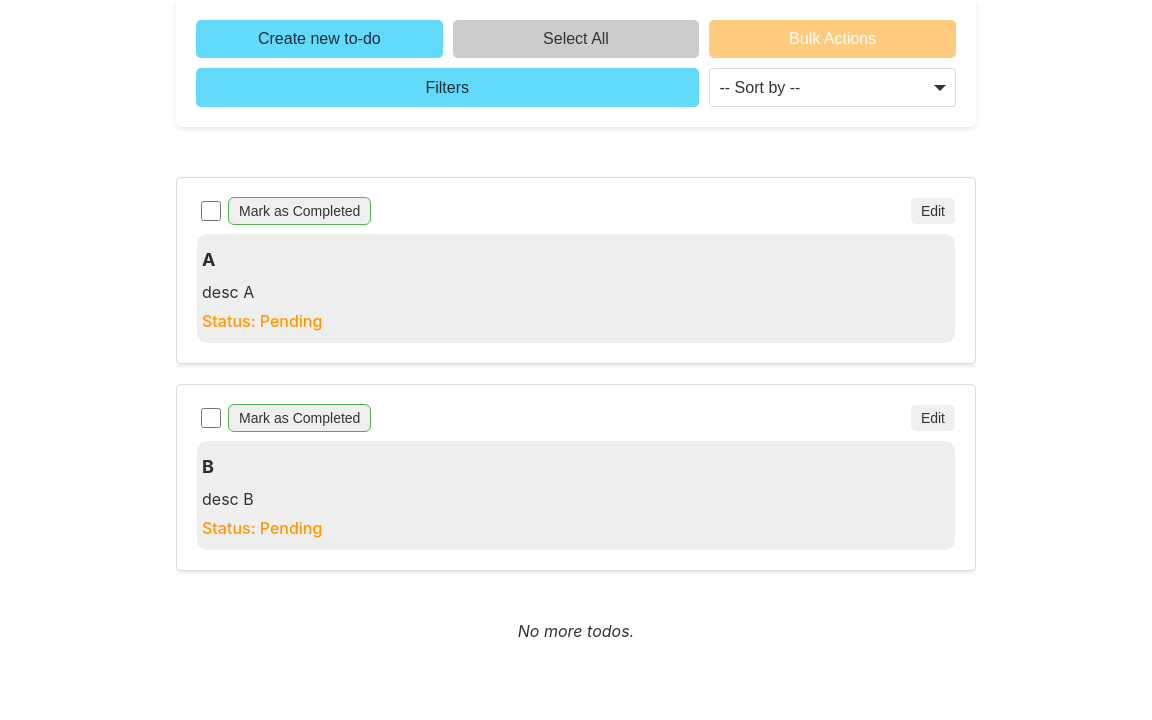
TodoList interactions › shows createToDo error in modal when creation fails
The image size is (1152, 720).
Step 1. Click the button "Create new to-do" → {"x": 319, "y": 39}, box [196, 20, 443, 58]
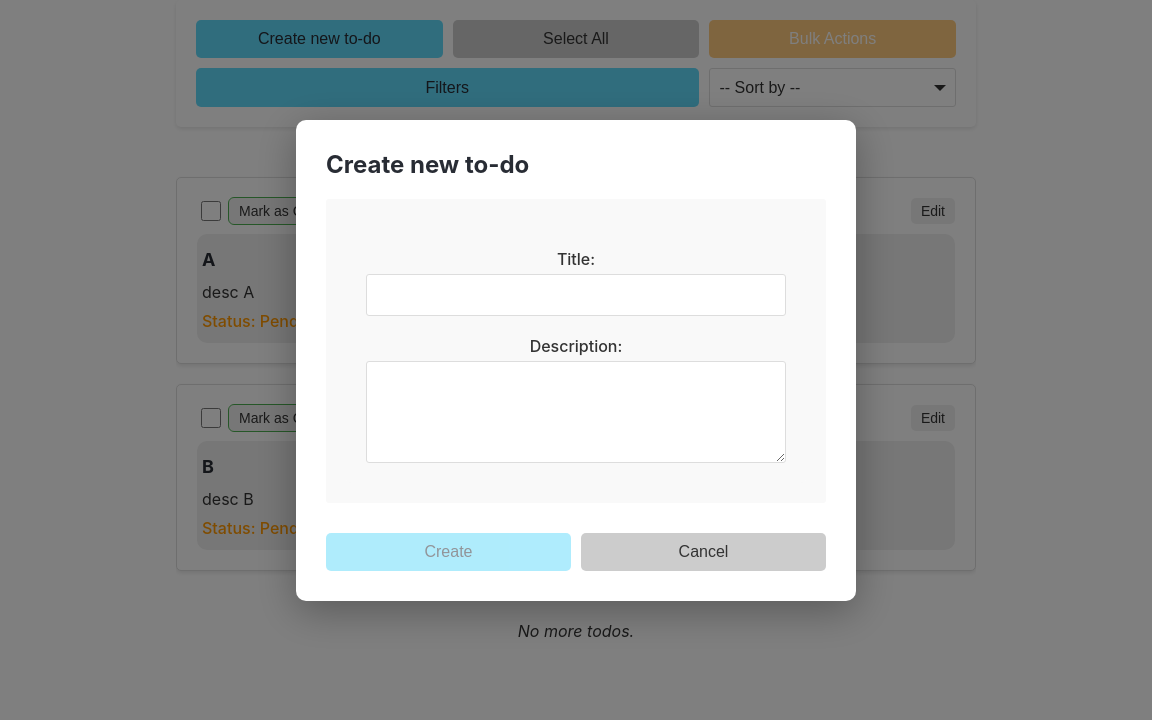
Step 2. Type "New title" into the field → {"x": 576, "y": 294}, box [366, 274, 786, 316]
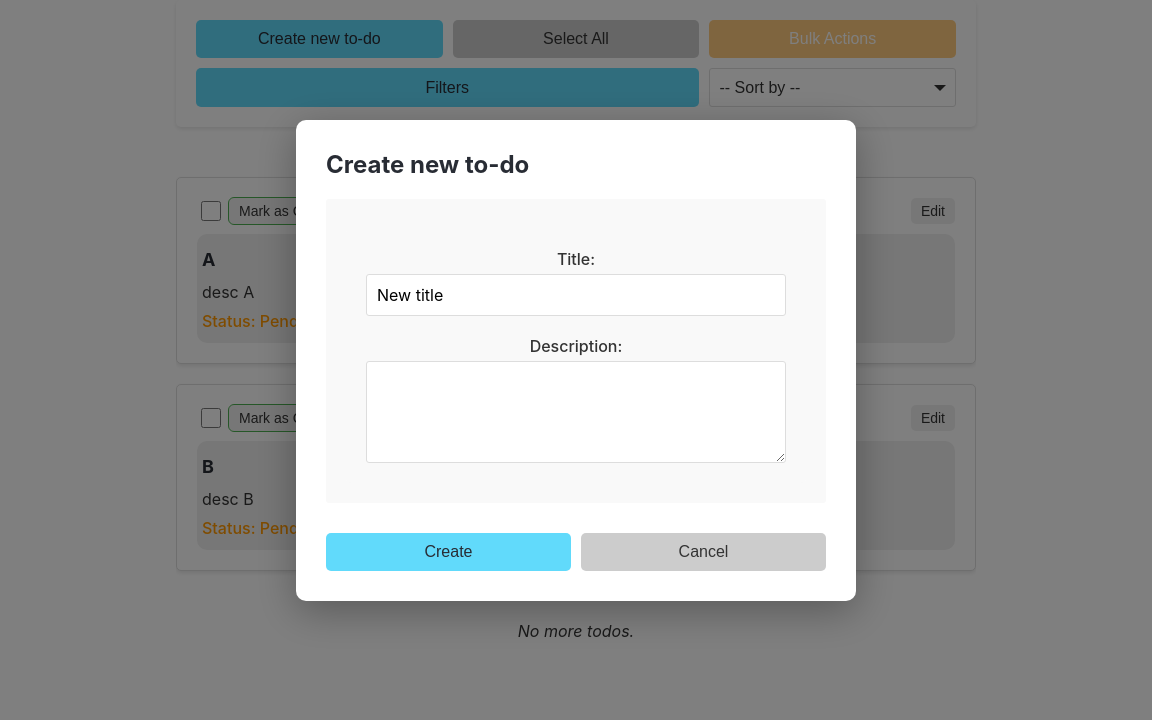
Step 3. Type "New desc" into the text box → {"x": 576, "y": 412}, box [366, 360, 786, 462]
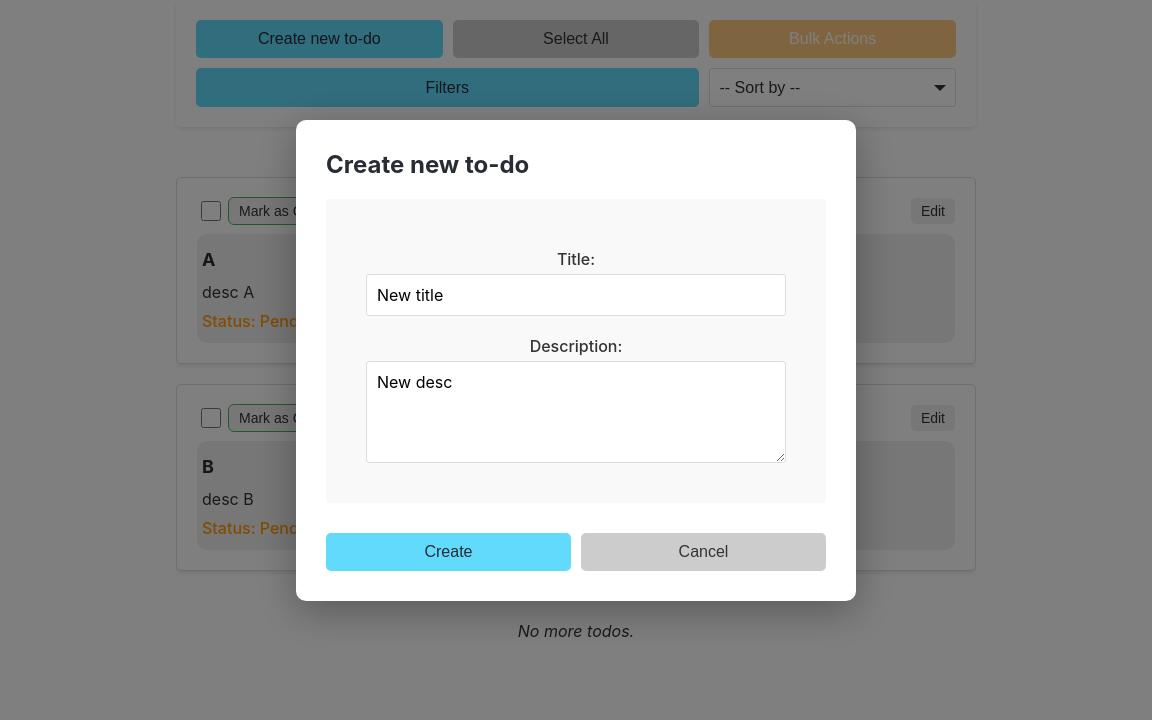
Step 4. Click the button "Create" → {"x": 448, "y": 552}, box [326, 532, 571, 570]
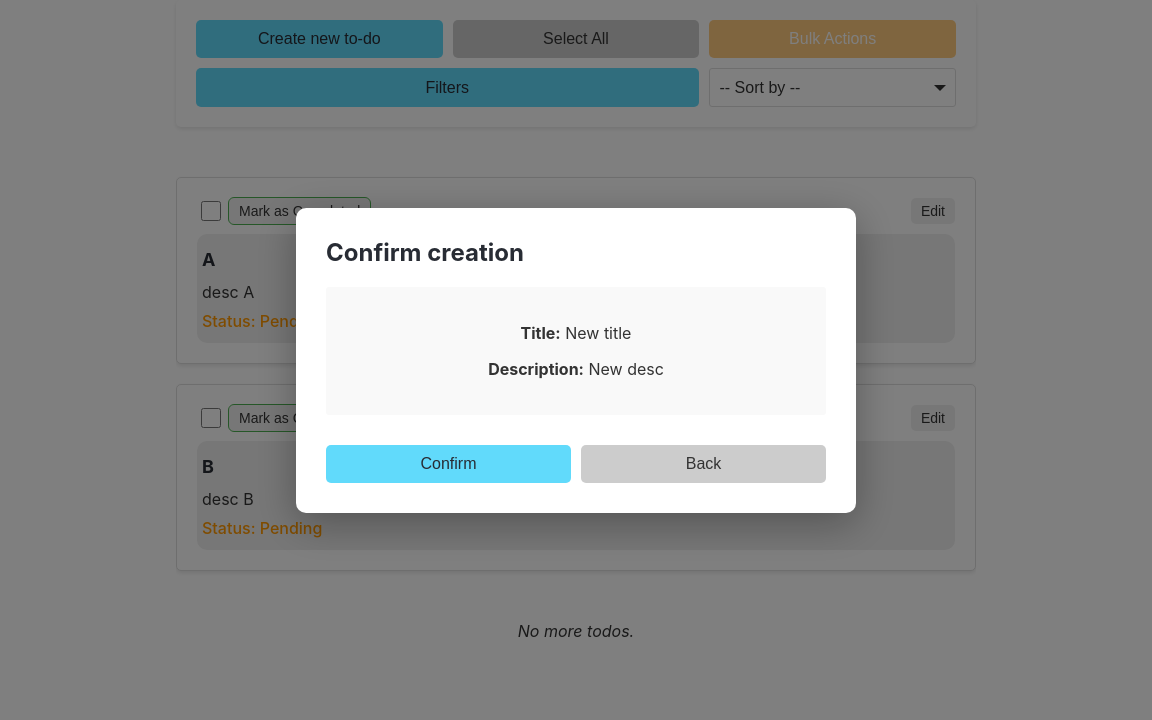
Step 5. Click the button "Confirm" → {"x": 448, "y": 464}, box [326, 444, 571, 482]
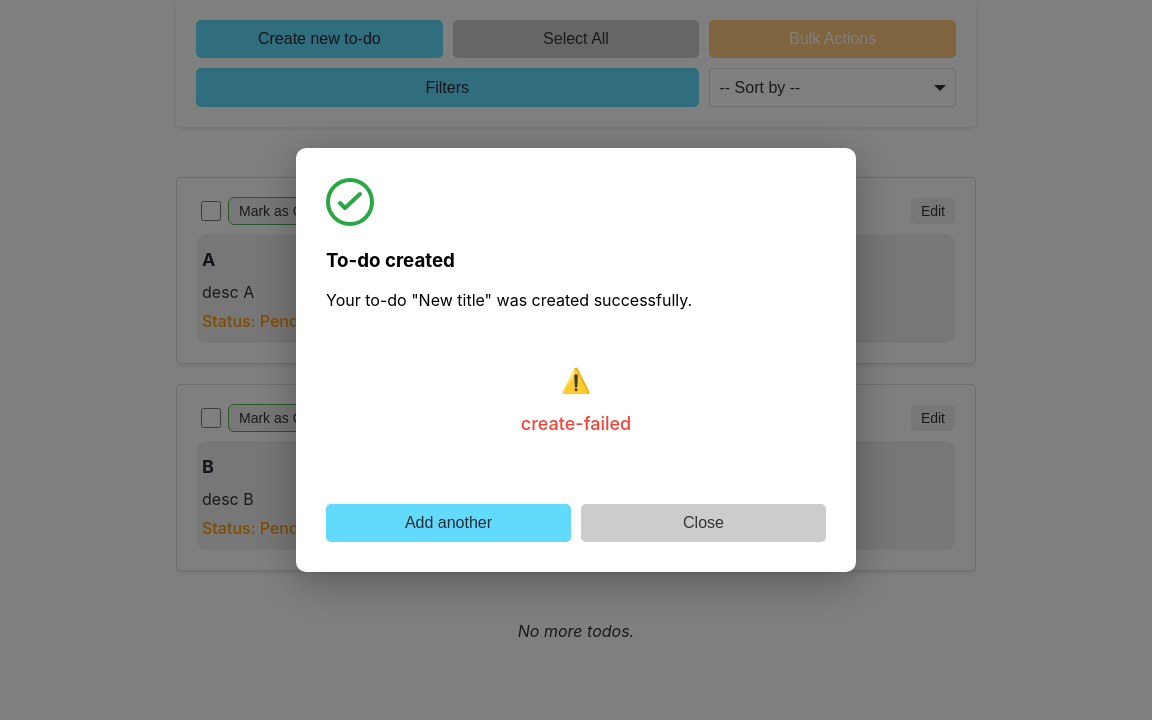
Check: the text "create-failed" is shown, box [521, 413, 631, 434]
